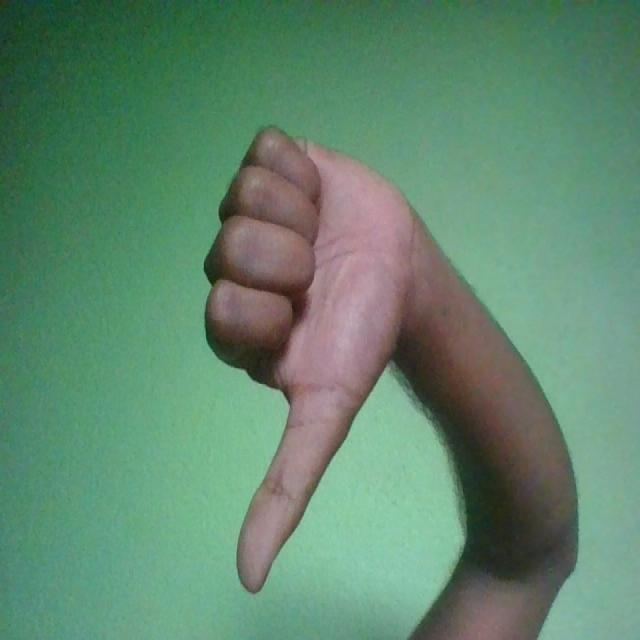Dislike: (204, 125, 417, 591)
